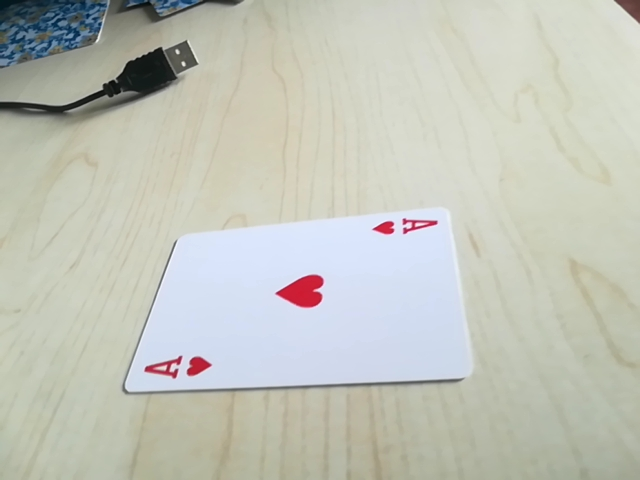hx a: (137, 349, 219, 388), (370, 211, 444, 244)
